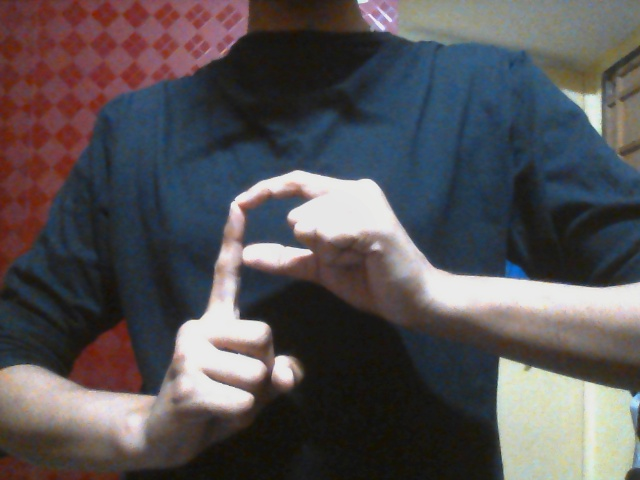P: (161, 169, 431, 458)
